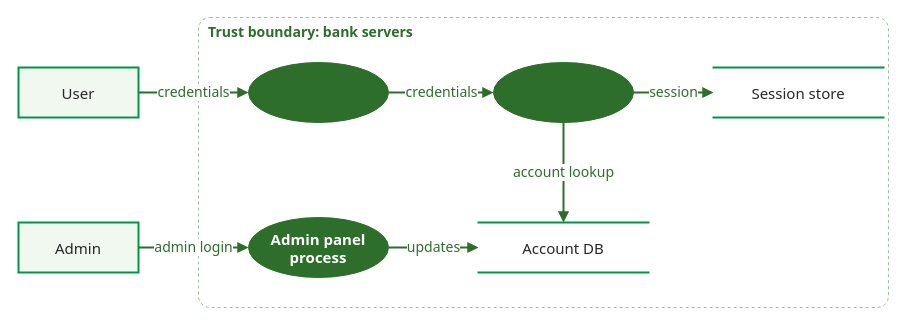
The diagram is 906 pixels wide and 325 high, and some of its shapes have lost their labels. The shapes that lost their labels are listed below. From the top down, each one's box as (x1, y1, x2, y2) in pixels, then its label:
(248, 62, 388, 122): Login page process
(492, 62, 634, 122): Auth service process
